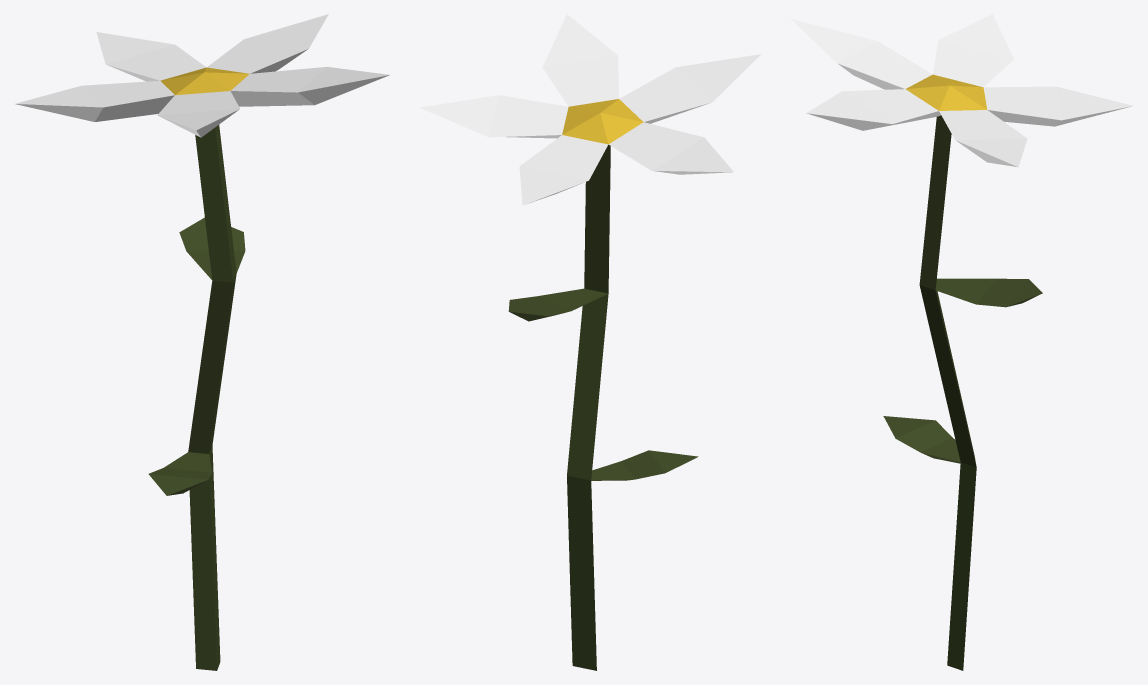
File: romashka2.0 для дропа.fbx
3 views of the same model, side by side, from view 1: azimuth 30°, elevation 25°; view 2: azimuth 150°, elevation 25°; view 3: azimuth 270°, elevation 25° (orthographic). The views are drawn at different scales.
Parts seen in each view (by area): view 1: Cylinder.002; view 2: Cylinder.002; view 3: Cylinder.002.
Boxes of the visible parts, x1,y1,x2,y2 form: Cylinder.002: [15, 14, 389, 670]; Cylinder.002: [420, 14, 761, 670]; Cylinder.002: [790, 14, 1133, 670].
Size of the model in its own units: 15.15 by 27.6 by 14.37.
